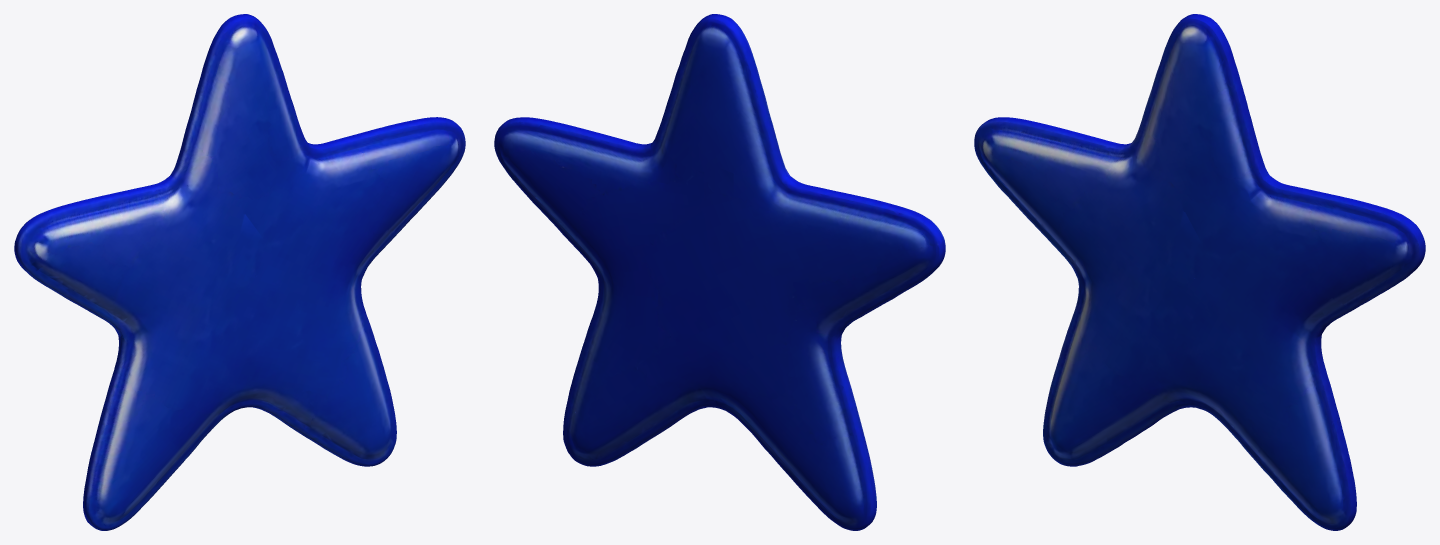
The model's file is star__companion__r1__p1__solo-attach__multi-4.glb.
3 renders of one model, left to right at view 1: azimuth 30°, elevation 25°; view 2: azimuth 150°, elevation 25°; view 3: azimuth 330°, elevation 25°, orthographic.
Parts seen in each view (by area): view 1: model; view 2: model; view 3: model.
Boxes of the visible parts, x1=… form: model: x1=14, y1=14, x2=465, y2=530; model: x1=494, y1=14, x2=945, y2=530; model: x1=974, y1=14, x2=1425, y2=530.
Size of the model in its own units: 1.67 by 1.72 by 0.1315.
Materials: 1 (1 with a texture image).
